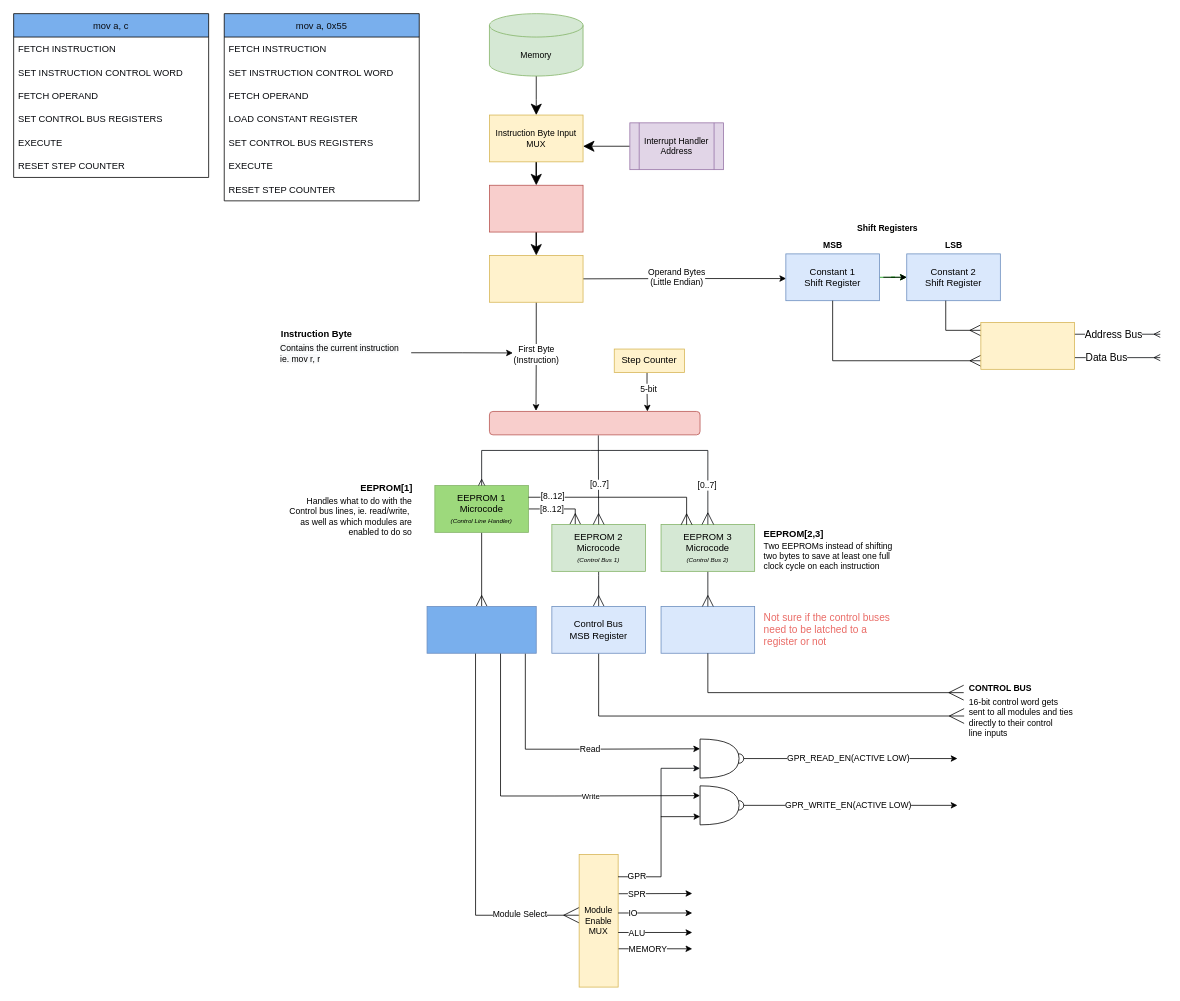
Some shapes in this 1180 by 1001 pixel diagram are drawn without their labels. Here are the shapes that lost their labels. From the top down, the centre of each, then its label:
[536,208]: Instruction Register
[536,278]: Instruction Output MUX
[1027,345]: Bus Assertion MUX
[594,423]: Microcode Address
[481,629]: Instruction Control Word Register
[707,629]: Control Bus LSB Register
